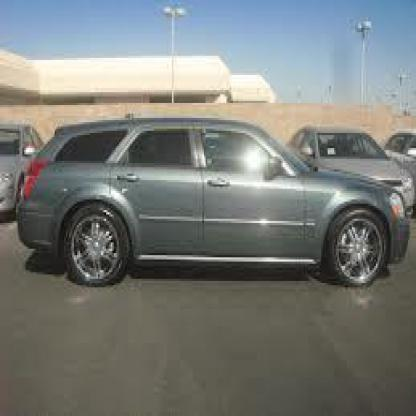Vehicle: (13, 116, 409, 289)
